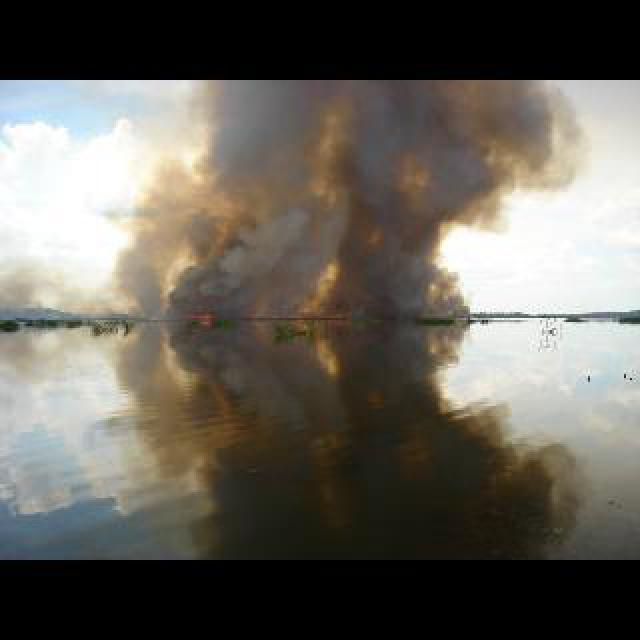Fire: (186, 312, 210, 320)
Smoke: (140, 84, 532, 298)
